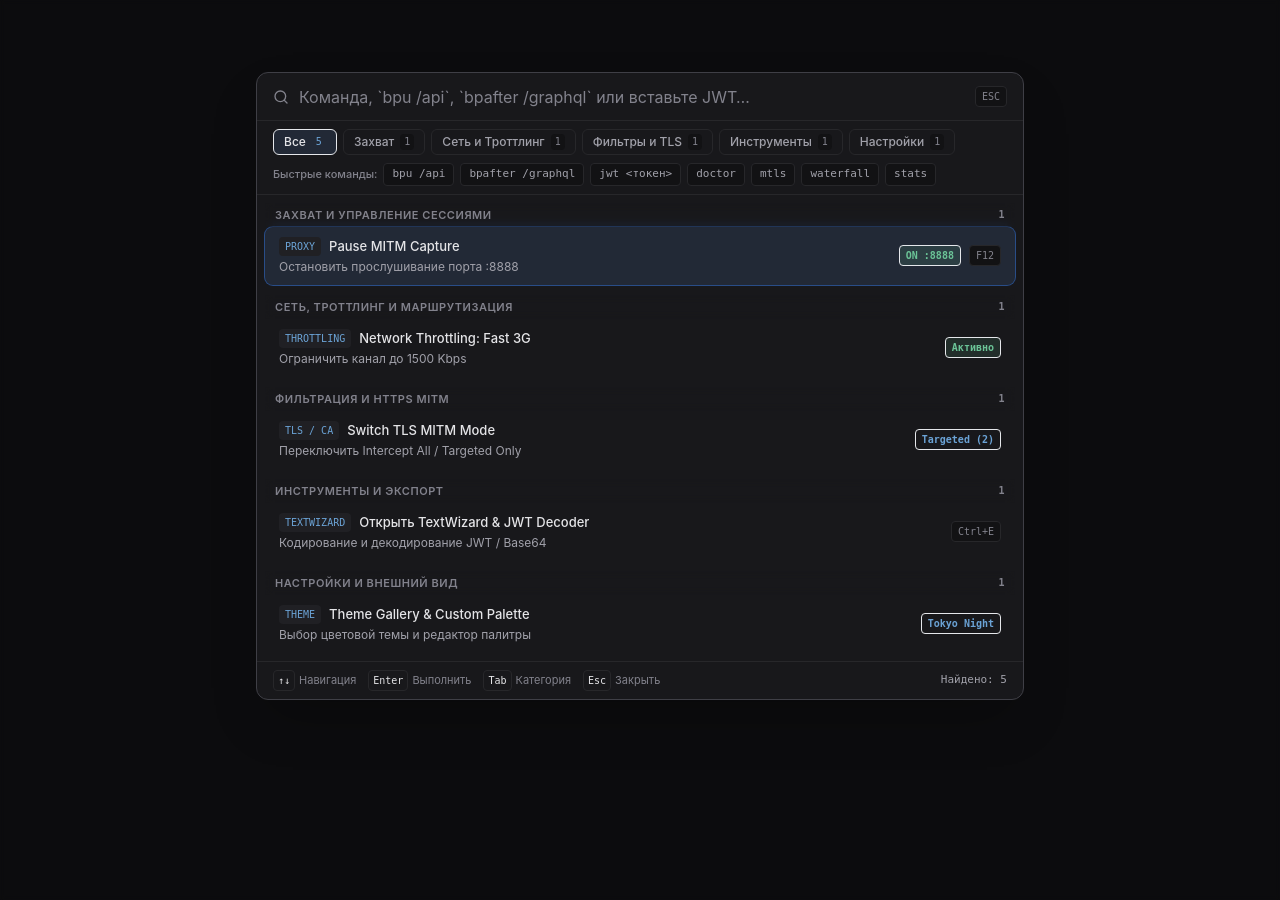
Test: CommandPalette 2.0 › filters by category tabs and cycles categories with Tab / Shift+Tab
Click the button "Сеть и Троттлинг 1": (504,142) [431,129,576,155]
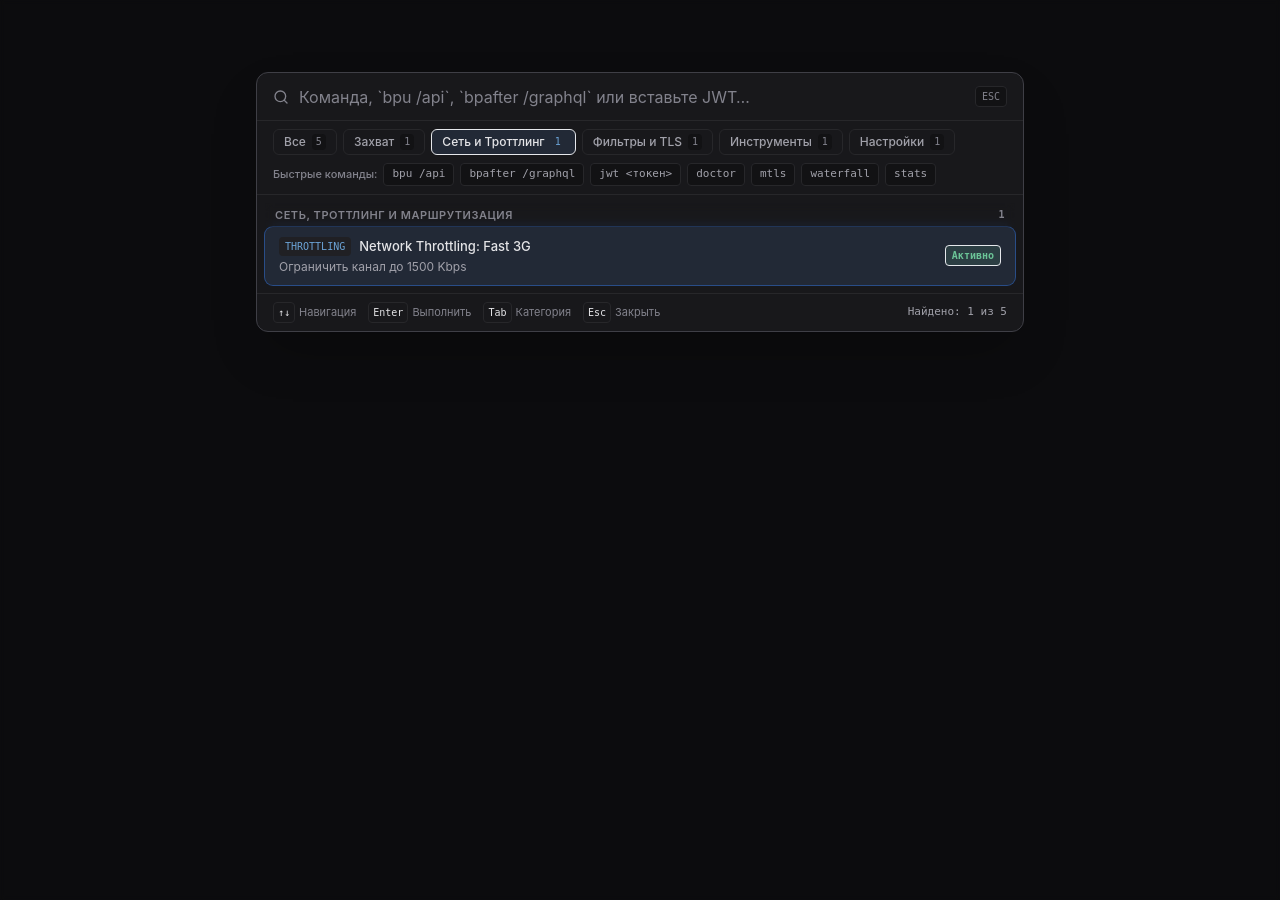
Expected: the text "Network Throttling: Fast 3G" is shown, [359,237,531,256]
Result: the button "Pause MITM Capture" is gone
Result: the text "Найдено: 1 из 5" is shown at [908,304,1007,320]
Press Tab in the field named "Search commands", box [299,72,965,120]
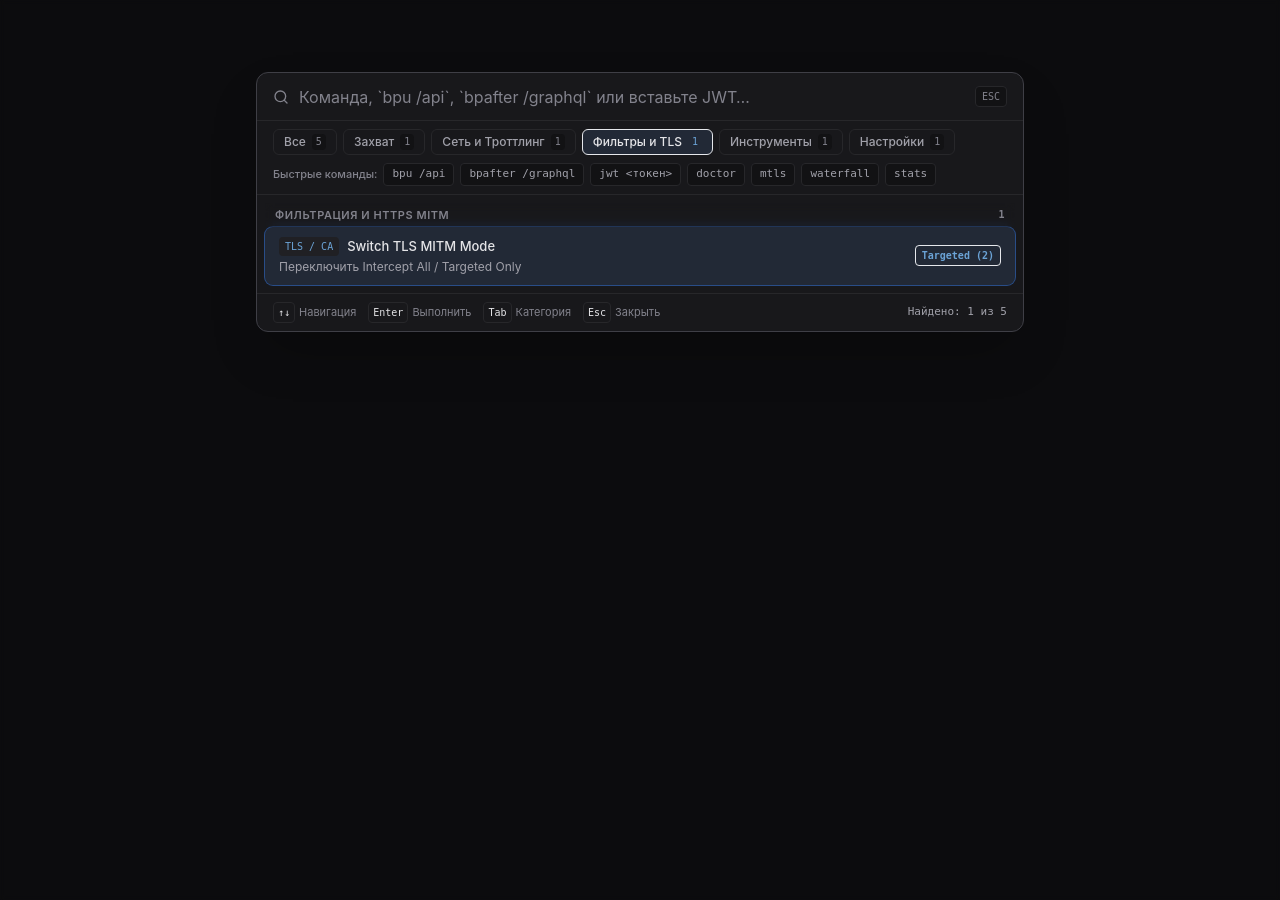
Result: the text "Switch TLS MITM Mode" is shown at [347,237,495,256]
Press Tab in the field named "Search commands", box [299,72,965,120]
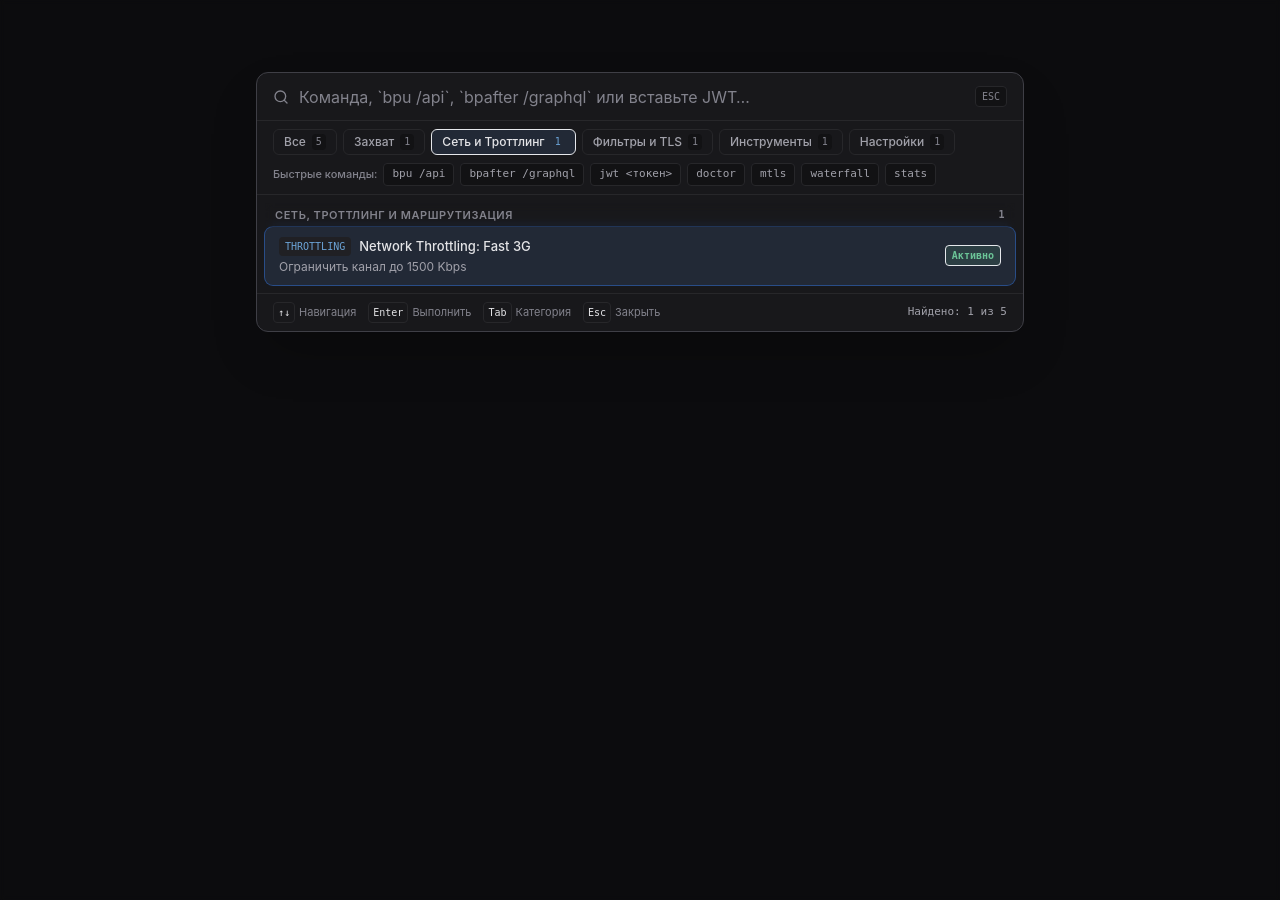
Result: the button "Сеть и Троттлинг 1" is pressed at [431,129,576,155]
